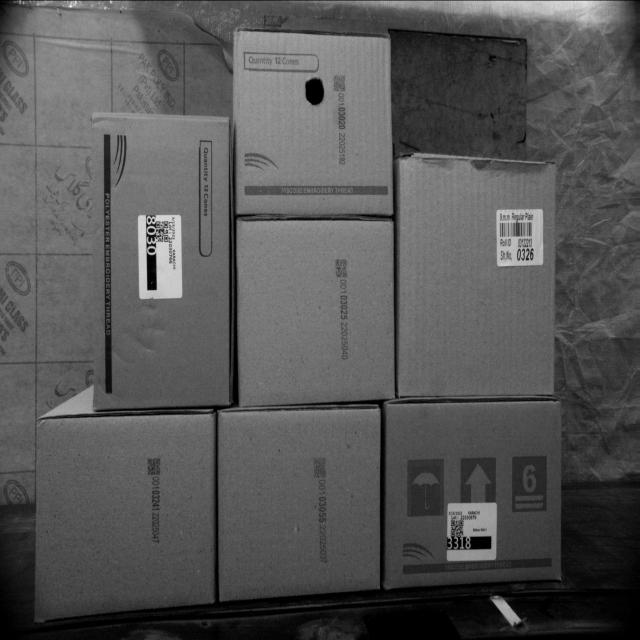cardboxes: (91, 112, 232, 407), (399, 156, 552, 395), (380, 400, 562, 590), (232, 26, 397, 218), (235, 212, 397, 406), (574, 378, 577, 384)
